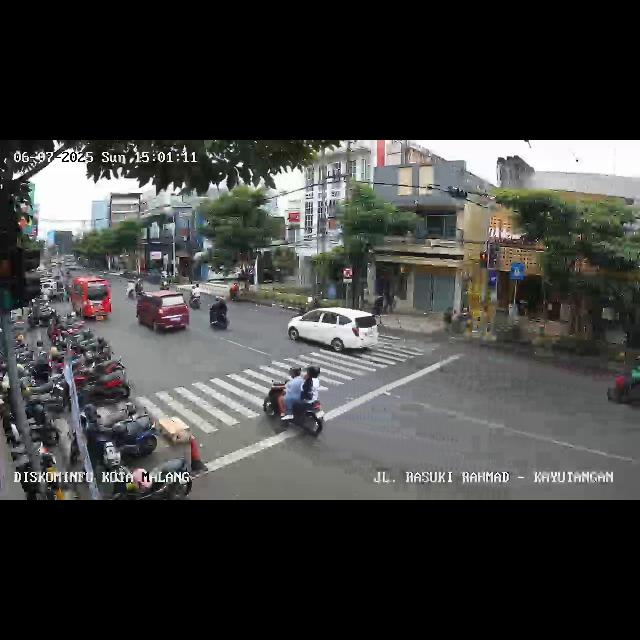car: (287, 305, 378, 359), (134, 290, 190, 336), (68, 276, 112, 322)
motorcycle: (262, 364, 326, 440), (606, 354, 640, 418), (208, 296, 232, 332), (190, 284, 202, 310), (134, 278, 144, 300)
